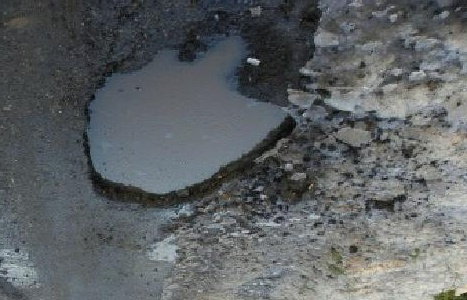pothole: (77, 33, 302, 210), (363, 182, 410, 212), (330, 125, 377, 150)
